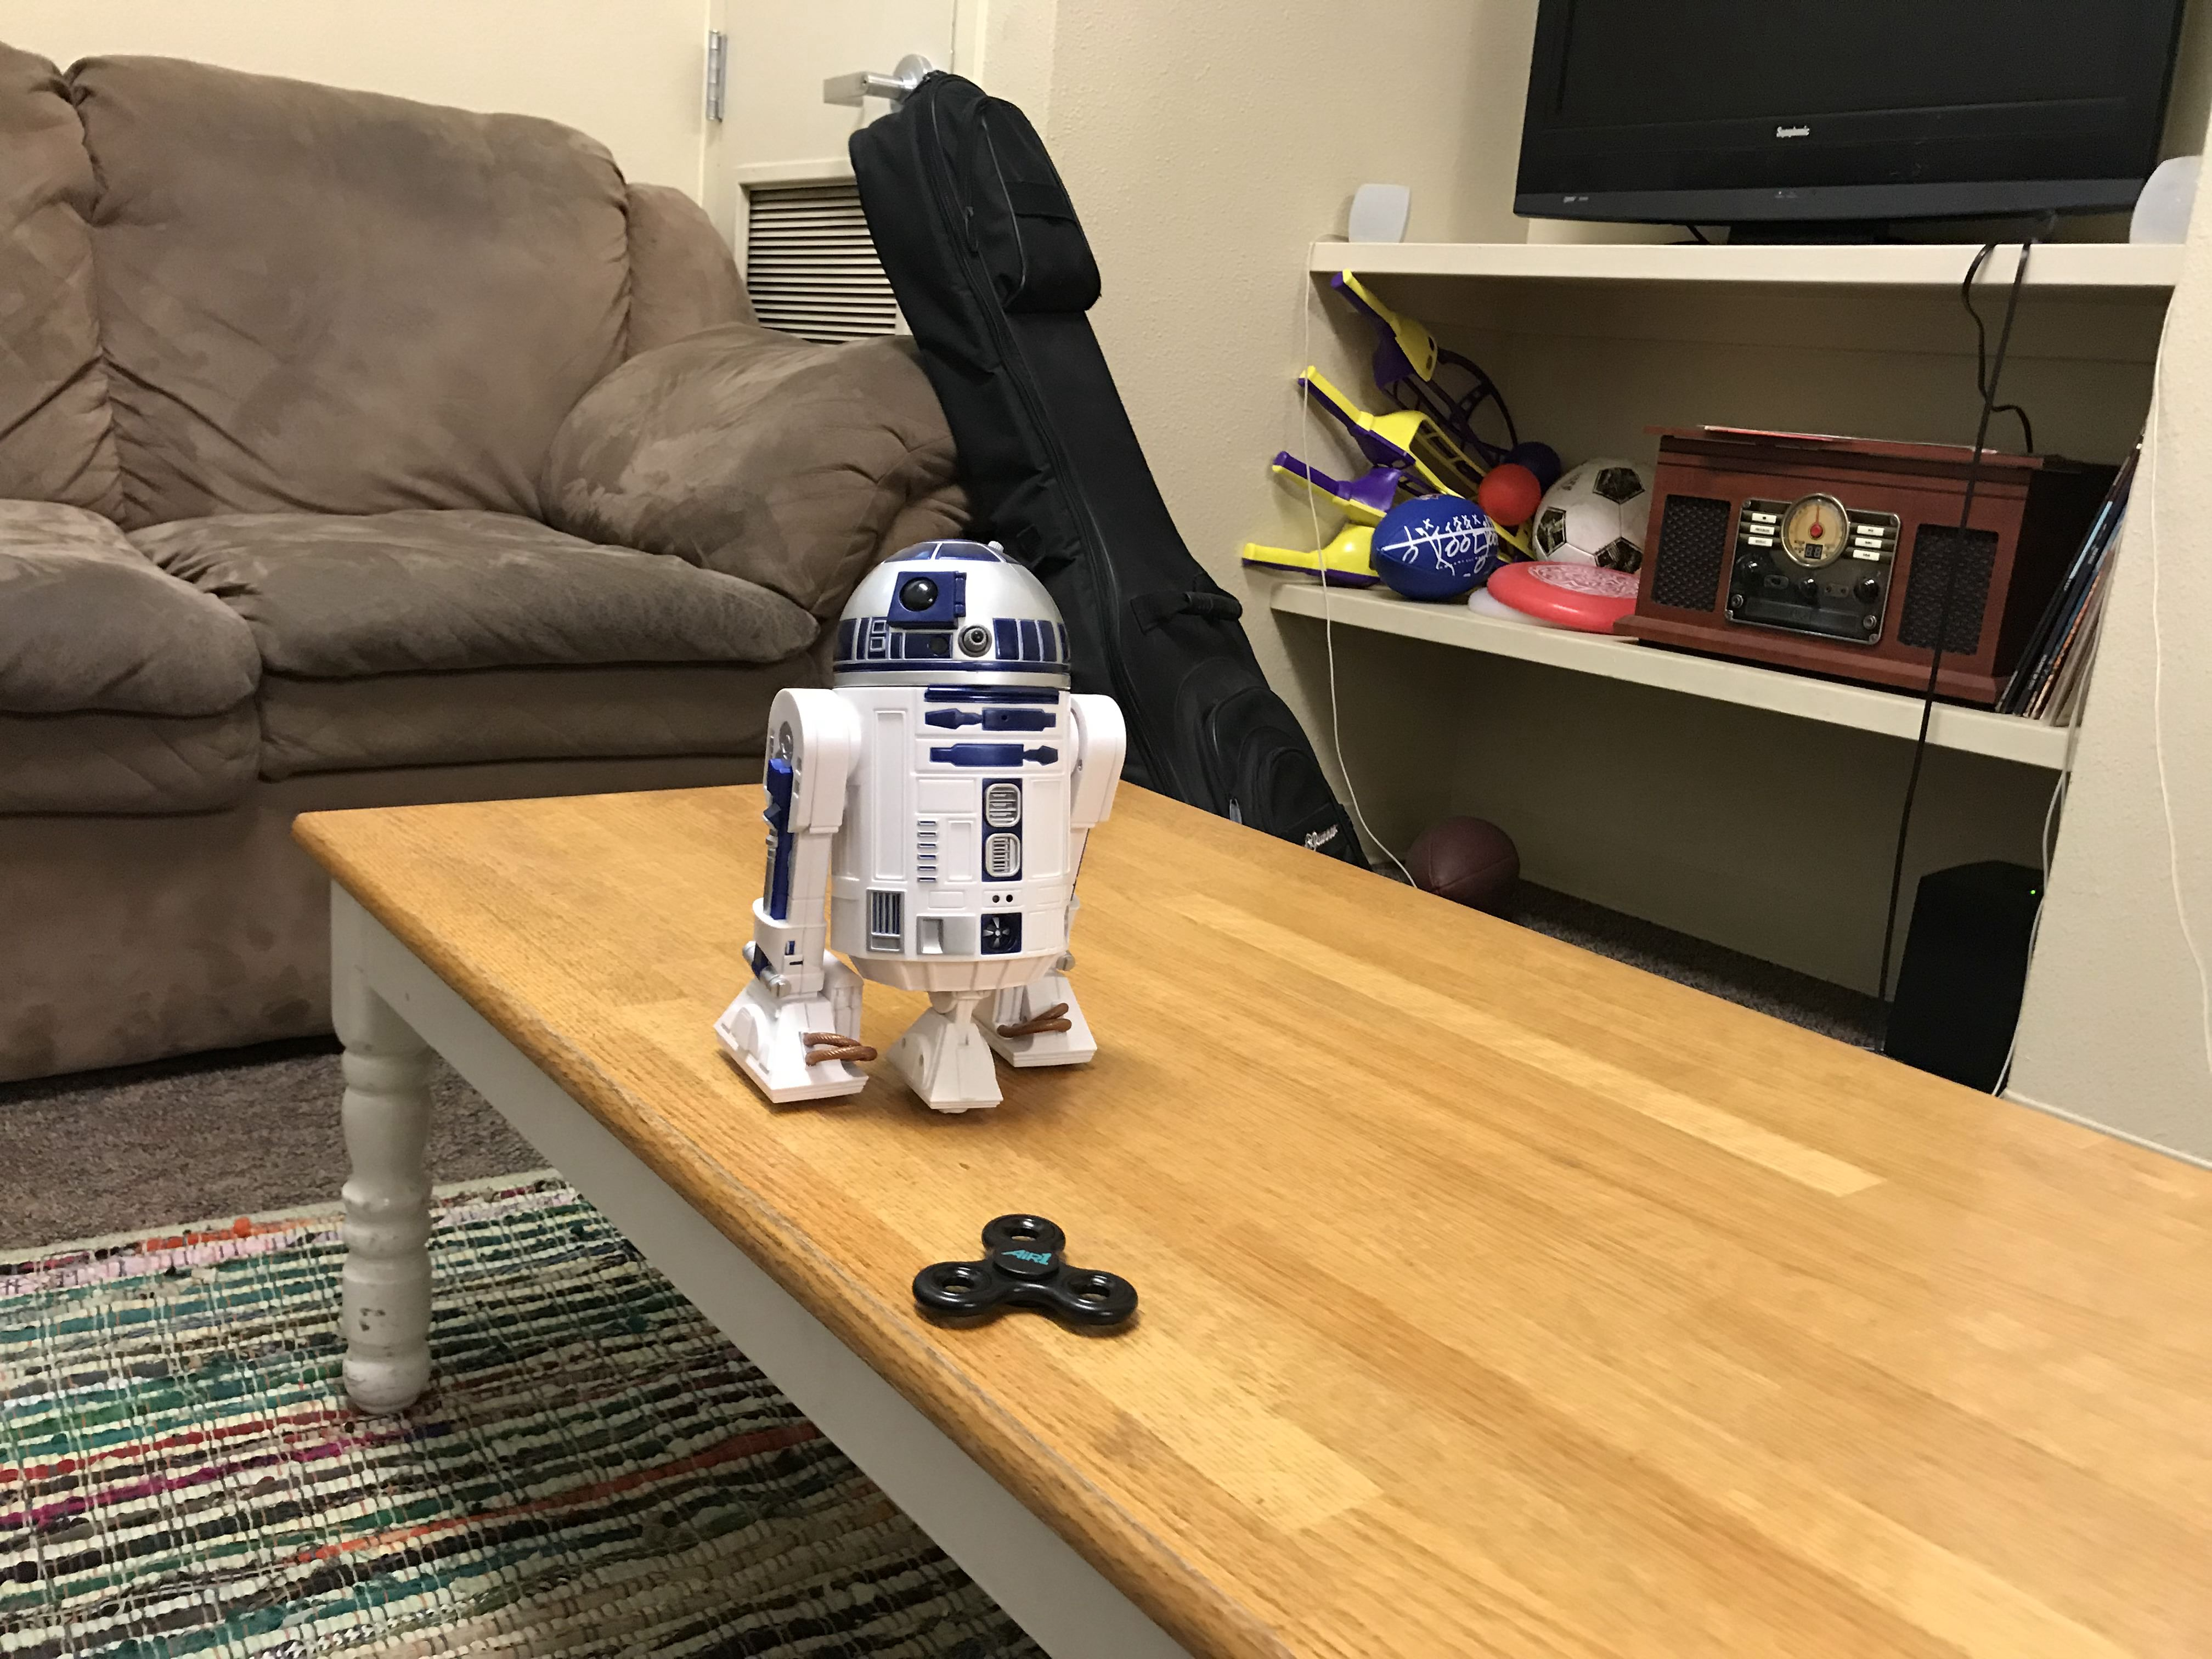r2d2: (714, 538, 1125, 1114)
